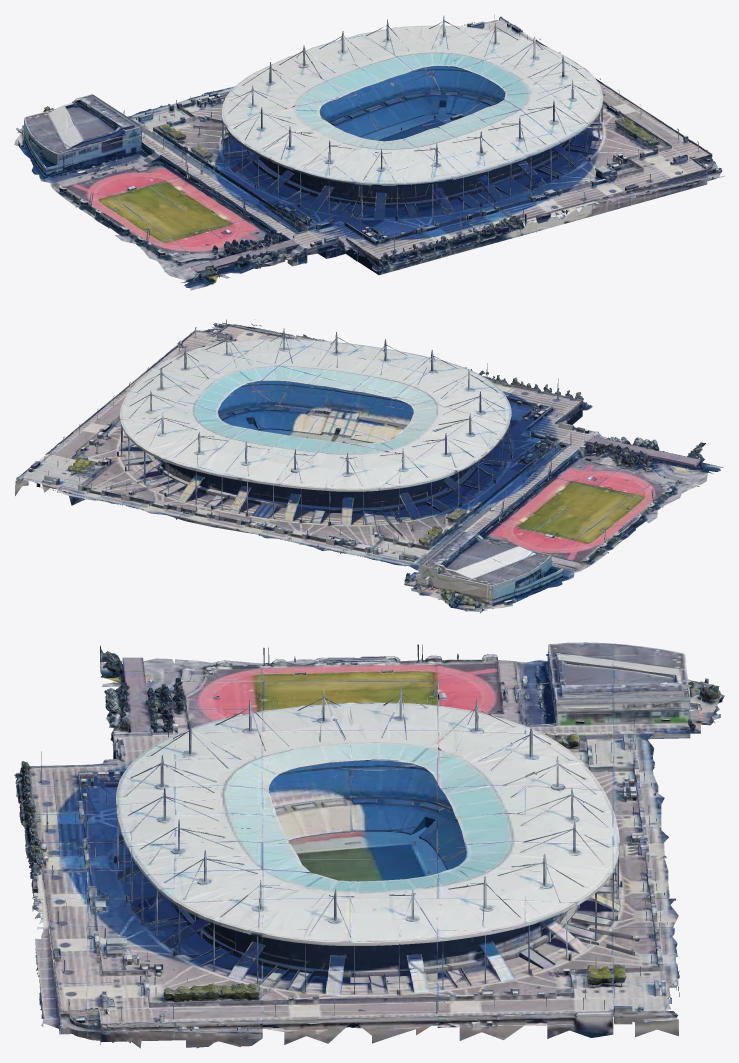
Rendered from sf-stadefrance.glb.
3 renders of one model, top to bottom at view 1: azimuth 30°, elevation 25°; view 2: azimuth 150°, elevation 25°; view 3: azimuth 270°, elevation 25°, orthographic. The views are drawn at different scales.
Visible parts, largest first — view 1: BuildingMesh-00011.001_1; view 2: BuildingMesh-00011.001_1; view 3: BuildingMesh-00011.001_1.
Boxes of the visible parts, <box> form: BuildingMesh-00011.001_1: <box>14,14,724,290</box>; BuildingMesh-00011.001_1: <box>15,319,723,612</box>; BuildingMesh-00011.001_1: <box>14,642,724,1048</box>.
Size of the model in its own units: 4.95 by 0.6913 by 3.93.
1 material, 1 textured.
